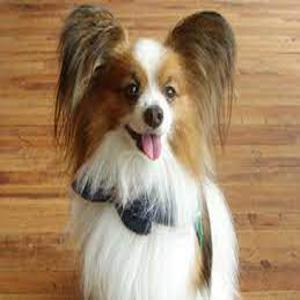yell: (52, 4, 239, 300)
